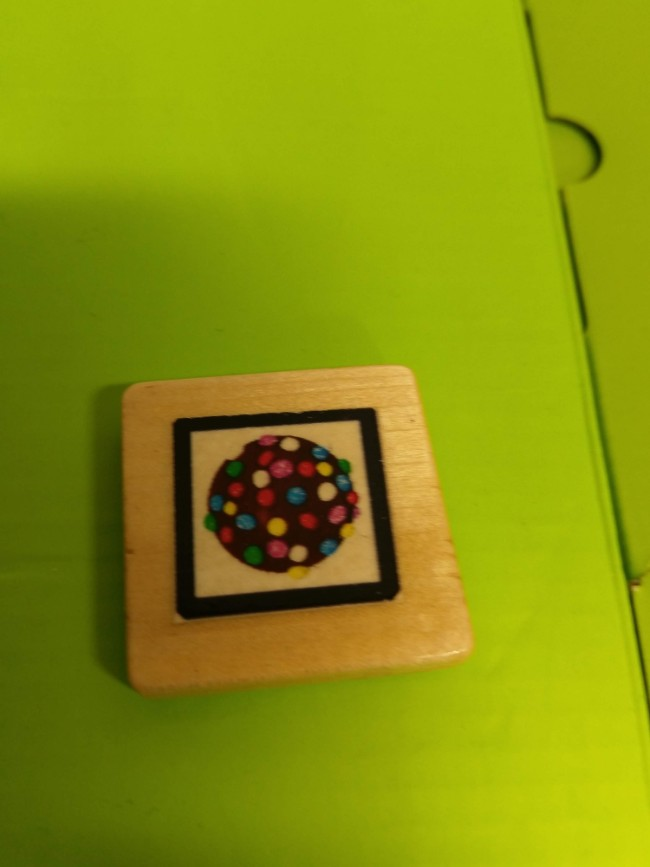cookie: (173, 411, 407, 625)
